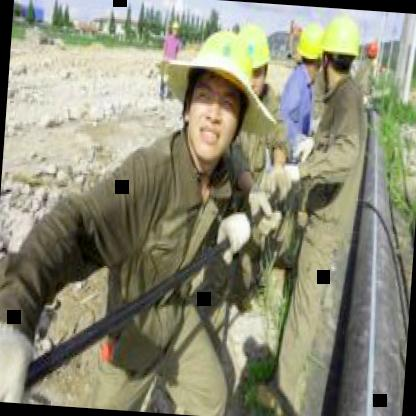helmet: (173, 22, 265, 166), (318, 10, 362, 90), (238, 22, 274, 104), (294, 22, 328, 80)
